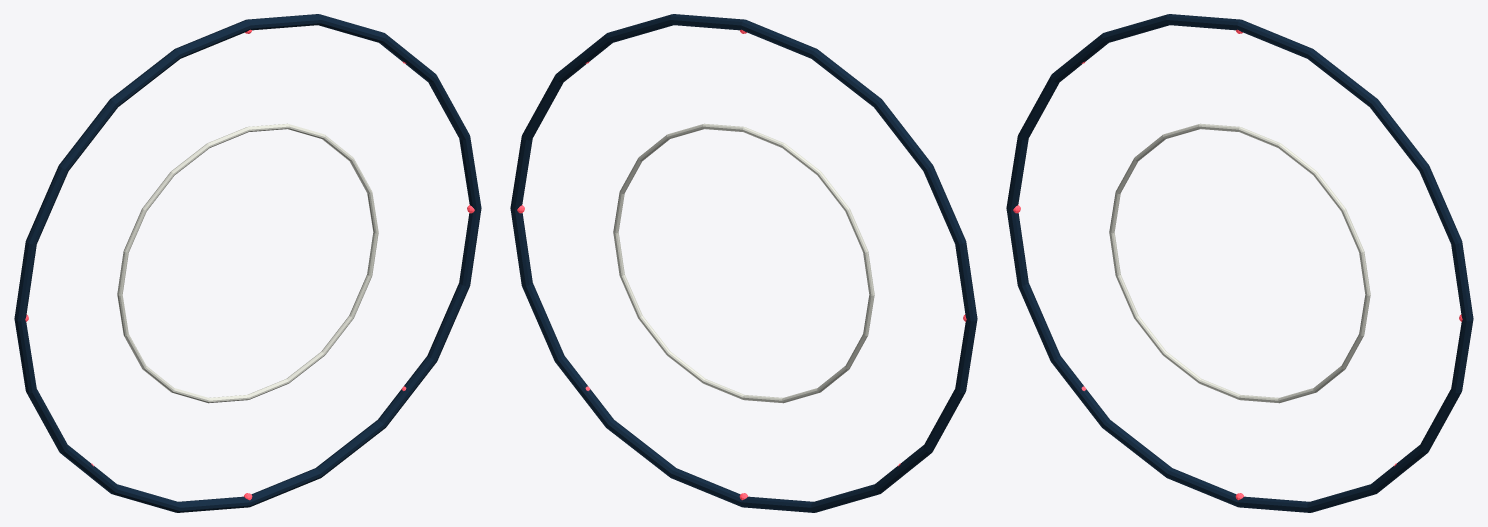
File: hazard-panel.glb
3 renders of one model, left to right at view 1: azimuth 30°, elevation 25°; view 2: azimuth 150°, elevation 25°; view 3: azimuth 330°, elevation 25°, orthographic.
Parts seen in each view (by area): view 1: dark_static, porcelain_static; view 2: dark_static, porcelain_static; view 3: dark_static, porcelain_static.
Part boxes in pixels (box(x1,y1,x2,y2)): dark_static: box(14, 14, 481, 512); porcelain_static: box(117, 123, 378, 403); dark_static: box(510, 14, 977, 512); porcelain_static: box(613, 123, 874, 403); dark_static: box(1006, 14, 1473, 512); porcelain_static: box(1109, 123, 1370, 403).
Size of the model in its own units: 4292 by 4292 by 87.5.
